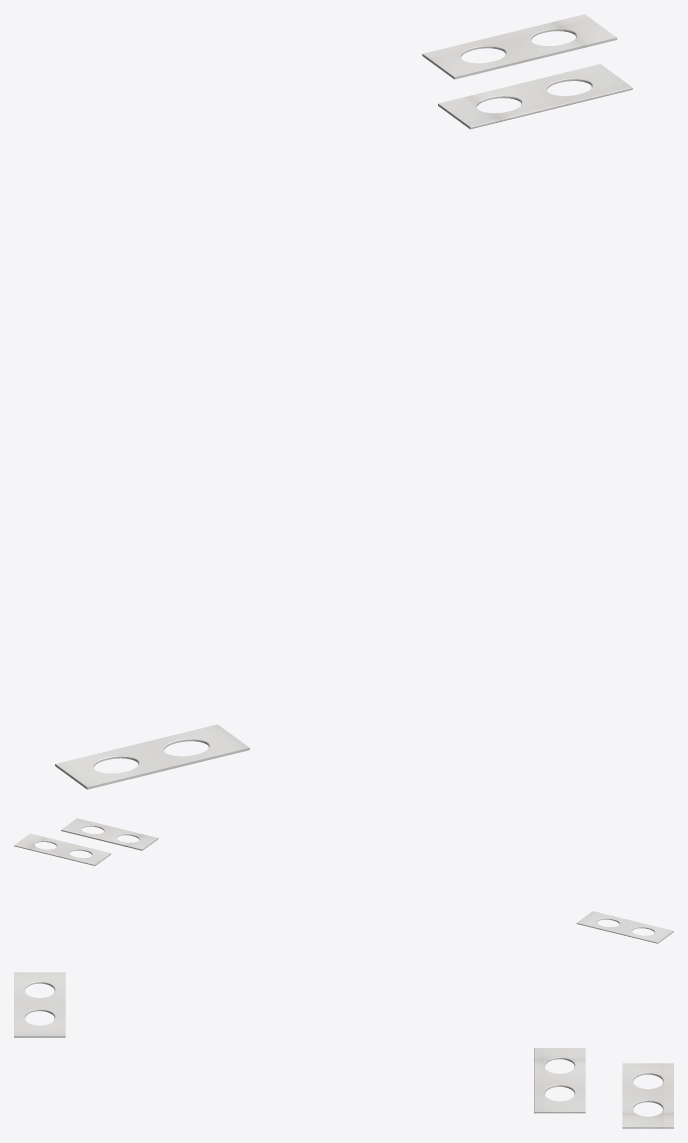
File: Countertops_Quartz_Arctic_White.glb
The picture shows the model from 3 angles, top to bottom: view 1: azimuth 30°, elevation 25°; view 2: azimuth 150°, elevation 25°; view 3: azimuth 270°, elevation 25°; orthographic projection. The views are drawn at different scales.
Parts seen in each view (by area): view 1: Bathroom_Counter_tops_Quartz_Arctic_white_2345; view 2: Bathroom_Counter_tops_Quartz_Arctic_white_2345; view 3: Bathroom_Counter_tops_Quartz_Arctic_white_2345.
Part boxes in pixels (bbox=[...]): Bathroom_Counter_tops_Quartz_Arctic_white_2345: bbox=[55, 14, 632, 789]; Bathroom_Counter_tops_Quartz_Arctic_white_2345: bbox=[14, 818, 673, 943]; Bathroom_Counter_tops_Quartz_Arctic_white_2345: bbox=[14, 972, 673, 1128].
Size of the model in its own units: 16.21 by 4.31 by 12.7.
Materials: 1 (1 with a texture image).
